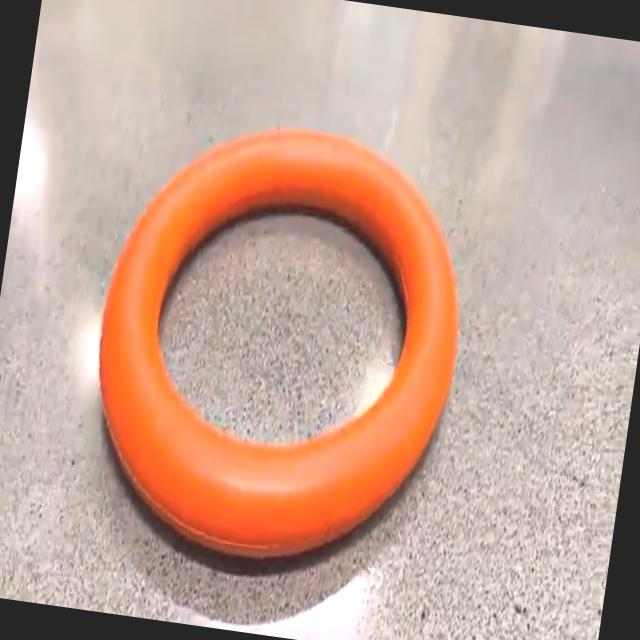note: (100, 130, 458, 556)
